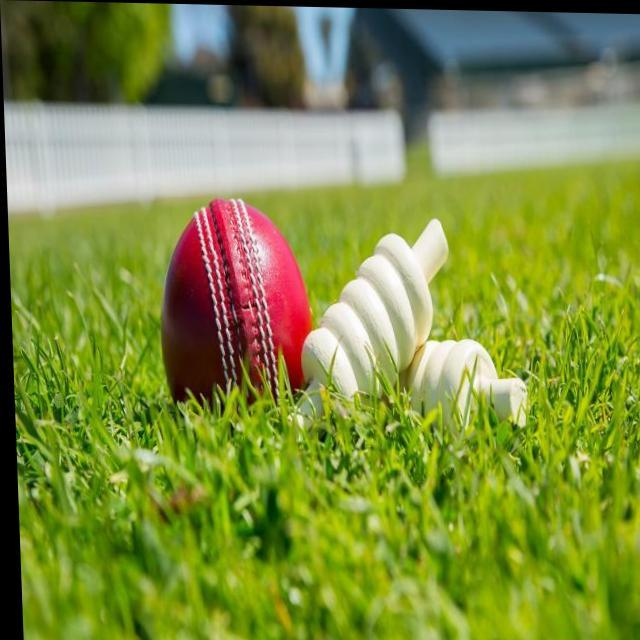cricket ball: (158, 197, 310, 409)
